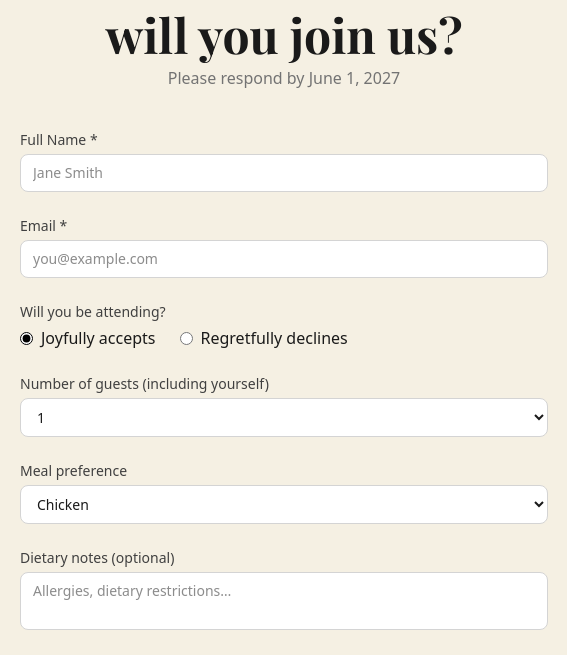
Test: RSVPPage › shows validation error for invalid email on blur
This screenshot has width=567, height=655.
Type "not-an-email" into the field with placeholder "you@example.com" at point(284, 259), box [20, 240, 548, 278]
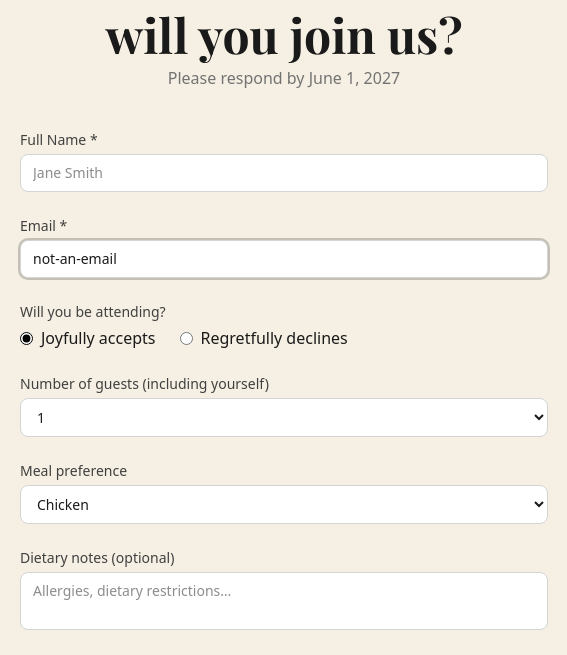
Press Tab
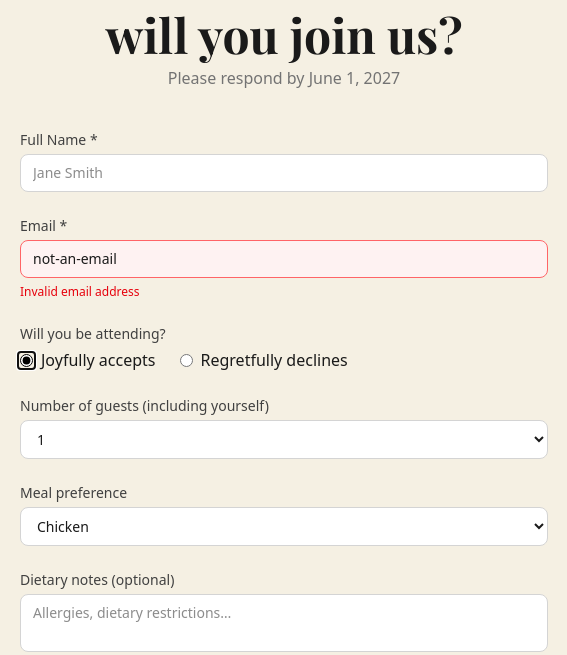
Expected: the text "Invalid email address" is shown, [20, 283, 140, 300]
